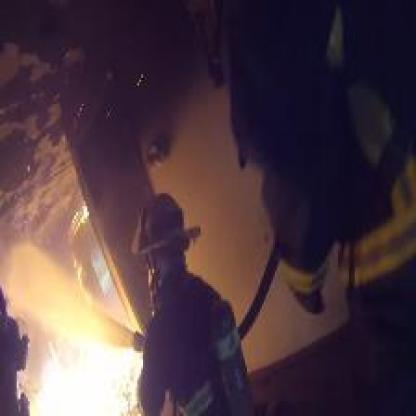smoke: (13, 271, 99, 348)
